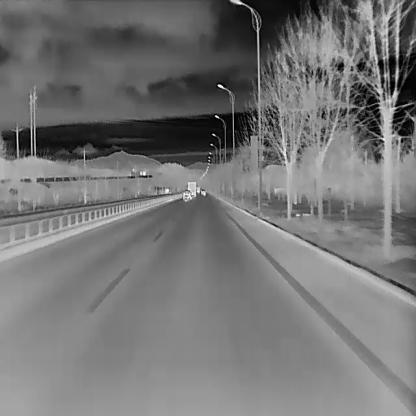car: (187, 180, 196, 196), (182, 190, 192, 202), (201, 189, 205, 195)
